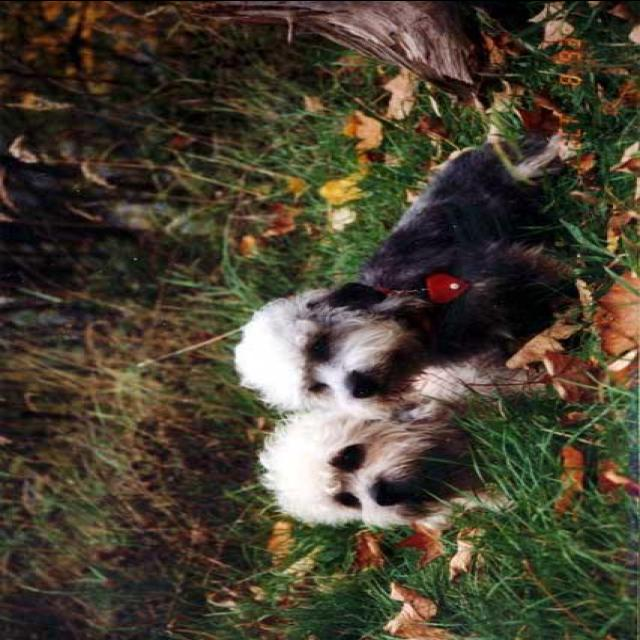dandie_dinmont: (232, 146, 580, 410), (254, 399, 520, 531)
